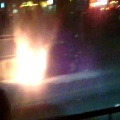fire: (8, 36, 46, 86)
